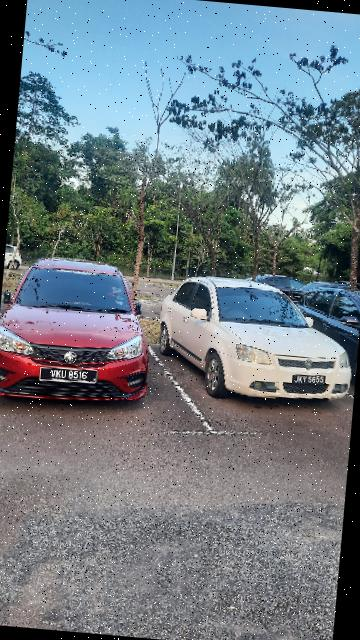License_Plate: (37, 365, 101, 388), (292, 372, 332, 388)
car: (153, 273, 360, 412), (1, 252, 161, 413)
